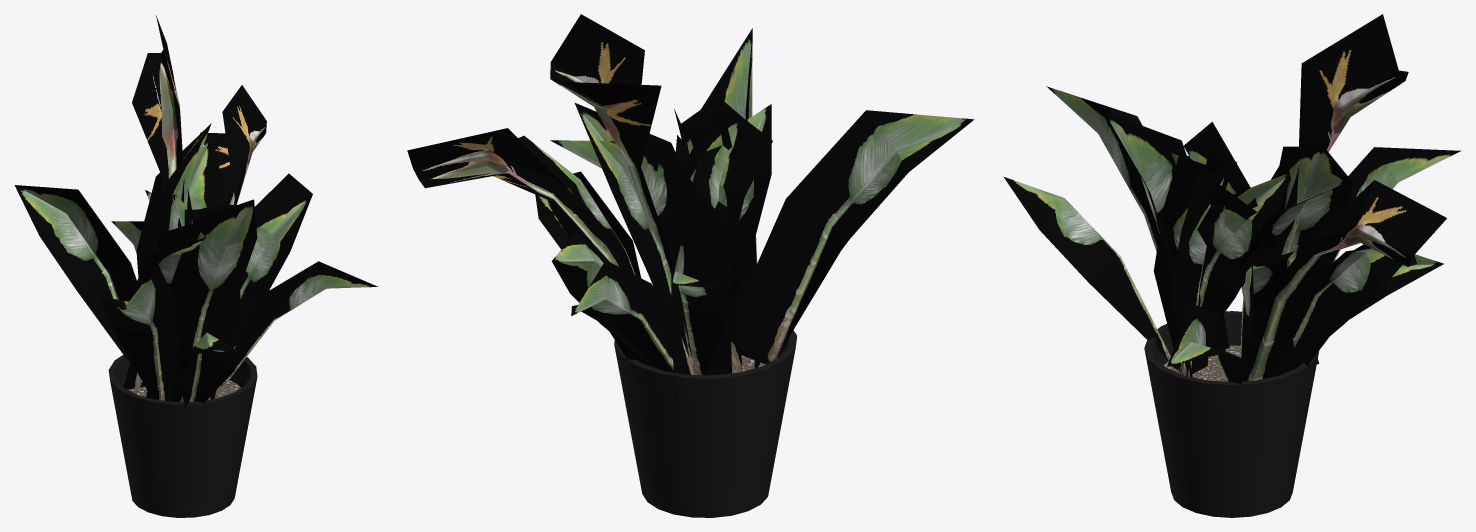
Rendered from Table_Plant.fbx.
3 views of the same model, side by side, from view 1: azimuth 30°, elevation 25°; view 2: azimuth 150°, elevation 25°; view 3: azimuth 270°, elevation 25° (orthographic). The views are drawn at different scales.
Visible parts, largest first — view 1: Flowers, Plant_Pot; view 2: Flowers, Plant_Pot; view 3: Flowers, Plant_Pot, Soil.
Boxes of the visible parts, x1,y1,x2,y2 form: Flowers: [14, 15, 377, 406]; Plant_Pot: [108, 355, 257, 517]; Flowers: [407, 14, 974, 400]; Plant_Pot: [614, 330, 796, 517]; Flowers: [1003, 14, 1461, 384]; Plant_Pot: [1144, 311, 1318, 517]; Soil: [1164, 345, 1240, 381].
Bounding box in the file's own units: 0.7655 × 1.01 × 0.8439.
